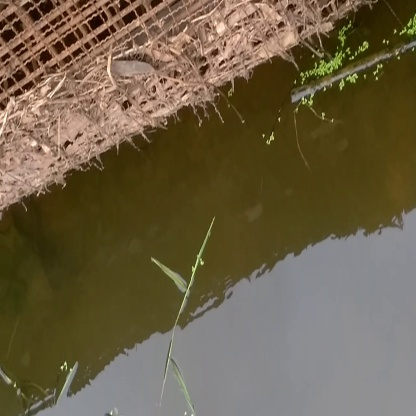branch: (285, 38, 416, 105)
